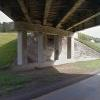Bridge: (3, 5, 95, 58)
